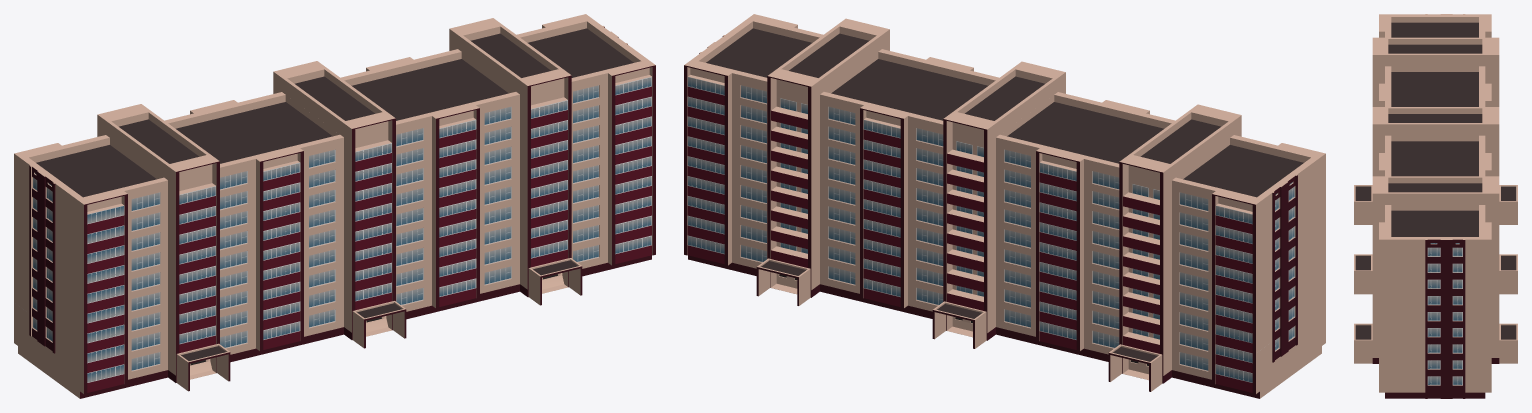
The model's file is house_new_11.glb.
3 renders of one model, left to right at view 1: azimuth 30°, elevation 25°; view 2: azimuth 150°, elevation 25°; view 3: azimuth 270°, elevation 25°, orthographic. The views are drawn at different scales.
Parts seen in each view (by area): view 1: Mesh_3.002; view 2: Mesh_3.002; view 3: Mesh_3.002.
Boxes of the visible parts, left/top/right/bottom form: Mesh_3.002: left=14, top=14, right=655, bottom=398; Mesh_3.002: left=684, top=14, right=1325, bottom=398; Mesh_3.002: left=1354, top=14, right=1517, bottom=398.
Size of the model in its own units: 85.3 by 30 by 26.15.
1 material, 1 textured.
